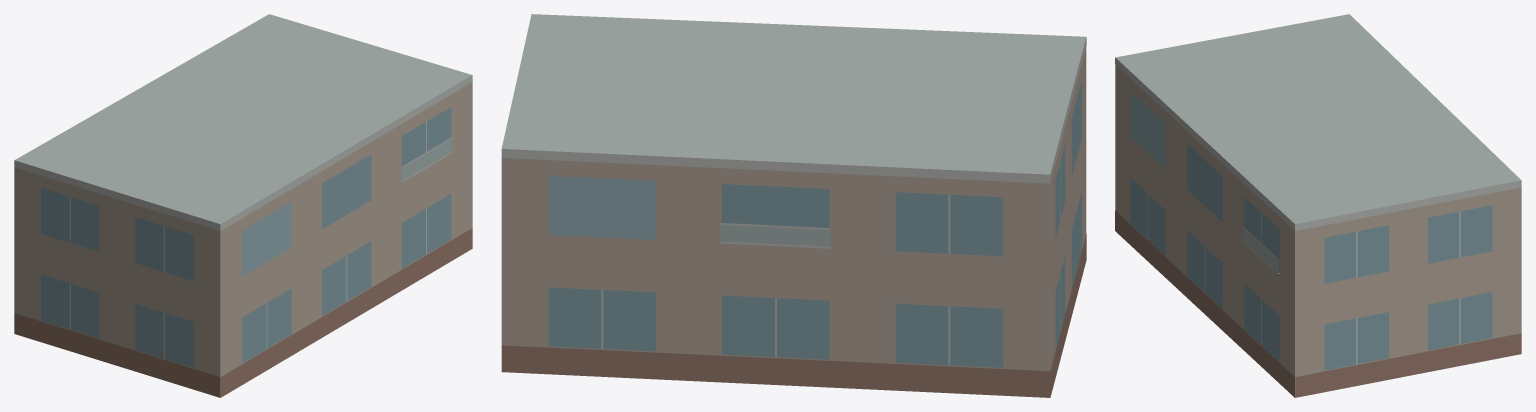
Rendered from survey-upis-32525120.glb.
3 views of the same model, side by side, from view 1: azimuth 30°, elevation 25°; view 2: azimuth 150°, elevation 25°; view 3: azimuth 270°, elevation 25° (orthographic). The views are drawn at different scales.
Parts seen in each view (by area): view 1: survey-upis-32525120.tmp; view 2: survey-upis-32525120.tmp; view 3: survey-upis-32525120.tmp.
Boxes of the visible parts, bbox=[...] form: survey-upis-32525120.tmp: bbox=[14, 14, 472, 397]; survey-upis-32525120.tmp: bbox=[501, 14, 1086, 397]; survey-upis-32525120.tmp: bbox=[1115, 14, 1521, 397].
Size of the model in its own units: 15.85 by 6.1 by 12.95.
